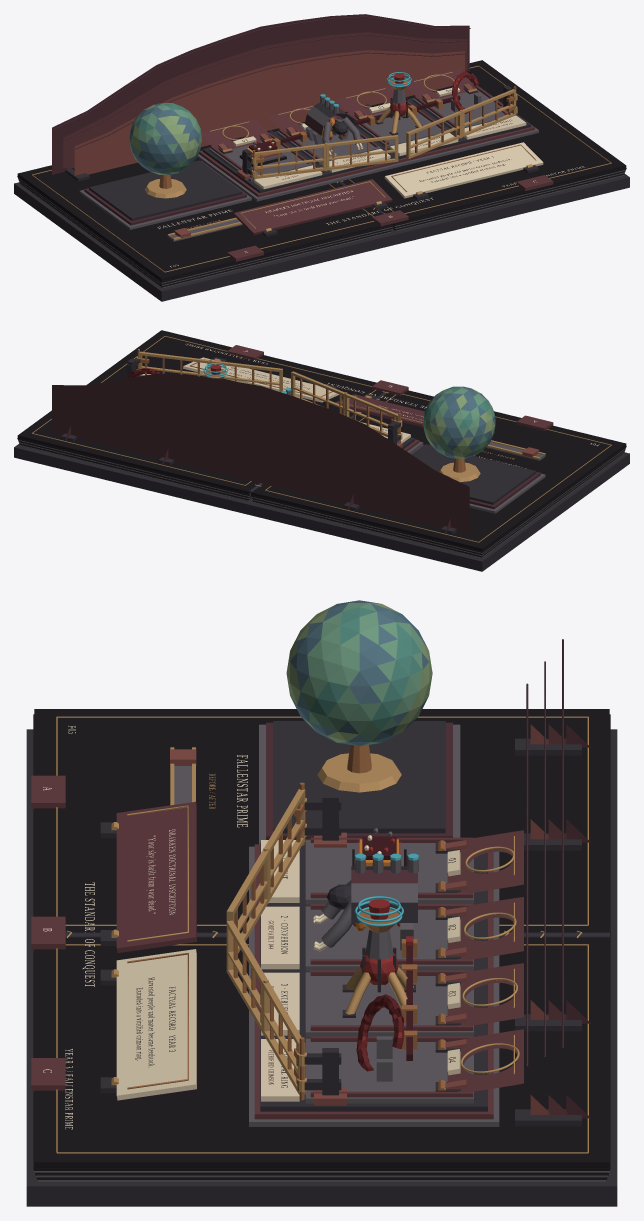
The model's file is palimpsest-f05.glb.
3 views of the same model, one above another, from view 1: azimuth 30°, elevation 25°; view 2: azimuth 150°, elevation 25°; view 3: azimuth 270°, elevation 25° (orthographic). The views are drawn at different scales.
Visible parts, largest first — view 1: Layered storm crest 2, Working charcoal leaf, Working charcoal leaf.001, Layered storm crest 0, True orbit aperture cut through storm lamina, Cloth-covered book board, Planet glued stepped plinth.002, A__Fallenstar Prime · living surface, Paper plaque laminated face.001, Paper plaque laminated face, Cloth-covered book board.001, Factory stepped technical bed.002 (+29 smaller); view 2: Layered storm crest 0, Working charcoal leaf, Working charcoal leaf.001, Cloth-covered book board, A__Fallenstar Prime · living surface, Cloth-covered book board.001, Planet glued stepped plinth.002, Paper plaque laminated face.001, Paper plaque laminated face, Visible individually cut page ply.008, Visible individually cut page ply.004, Visible individually cut page ply.005 (+13 smaller); view 3: Working charcoal leaf.001, Working charcoal leaf, Cloth-covered book board.001, A__Fallenstar Prime · living surface, Planet glued stepped plinth.002, Paper plaque laminated face, Paper plaque laminated face.001, Factory stepped technical bed.002, Recessed technical bay bed 4, Recessed technical bay bed 3, Recessed technical bay bed 2, Factory stepped technical bed.001 (+36 smaller).
Part boxes in pixels (x1,y1,x2,y2): Layered storm crest 2: [74, 50, 464, 175]; Working charcoal leaf: [17, 131, 392, 281]; Working charcoal leaf.001: [271, 60, 626, 224]; Layered storm crest 0: [52, 14, 469, 174]; True orbit aperture cut through storm lamina: [63, 32, 467, 168]; Cloth-covered book board: [14, 182, 396, 301]; Planet glued stepped plinth.002: [89, 160, 242, 220]; A__Fallenstar Prime · living surface: [129, 103, 201, 174]; Paper plaque laminated face.001: [384, 142, 543, 198]; Paper plaque laminated face: [233, 179, 392, 235]; Cloth-covered book board.001: [391, 174, 629, 244]; Factory stepped technical bed.002: [202, 86, 530, 193]; Layered storm crest 0: [52, 373, 469, 533]; Working charcoal leaf: [251, 390, 626, 552]; Working charcoal leaf.001: [17, 330, 382, 494]; Cloth-covered book board: [247, 452, 629, 571]; A__Fallenstar Prime · living surface: [423, 386, 495, 458]; Cloth-covered book board.001: [14, 444, 252, 514]; Planet glued stepped plinth.002: [411, 444, 536, 504]; Paper plaque laminated face.001: [183, 357, 339, 402]; Paper plaque laminated face: [335, 394, 424, 427]; Visible individually cut page ply.008: [250, 446, 626, 552]; Visible individually cut page ply.004: [252, 450, 625, 555]; Visible individually cut page ply.005: [252, 449, 625, 554]; Working charcoal leaf.001: [34, 937, 609, 1169]; Working charcoal leaf: [34, 709, 609, 932]; Cloth-covered book board.001: [26, 958, 617, 1206]; A__Fallenstar Prime · living surface: [286, 600, 432, 746]; Planet glued stepped plinth.002: [273, 721, 445, 833]; Paper plaque laminated face: [116, 801, 196, 952]; Paper plaque laminated face.001: [116, 949, 196, 1100]; Factory stepped technical bed.002: [260, 842, 487, 1111]; Recessed technical bay bed 4: [305, 1038, 473, 1103]; Recessed technical bay bed 3: [305, 972, 473, 1037]; Recessed technical bay bed 2: [305, 906, 473, 971]; Factory stepped technical bed.001: [254, 844, 493, 1119].
Bounding box in the file's own units: 10.36 × 2.52 × 5.66.
